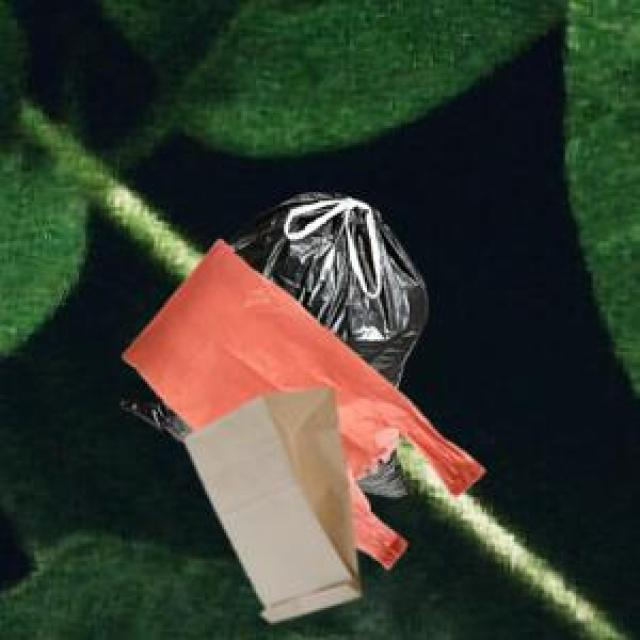miscellaneous trash: (117, 190, 422, 493)
paper: (181, 384, 356, 617)
